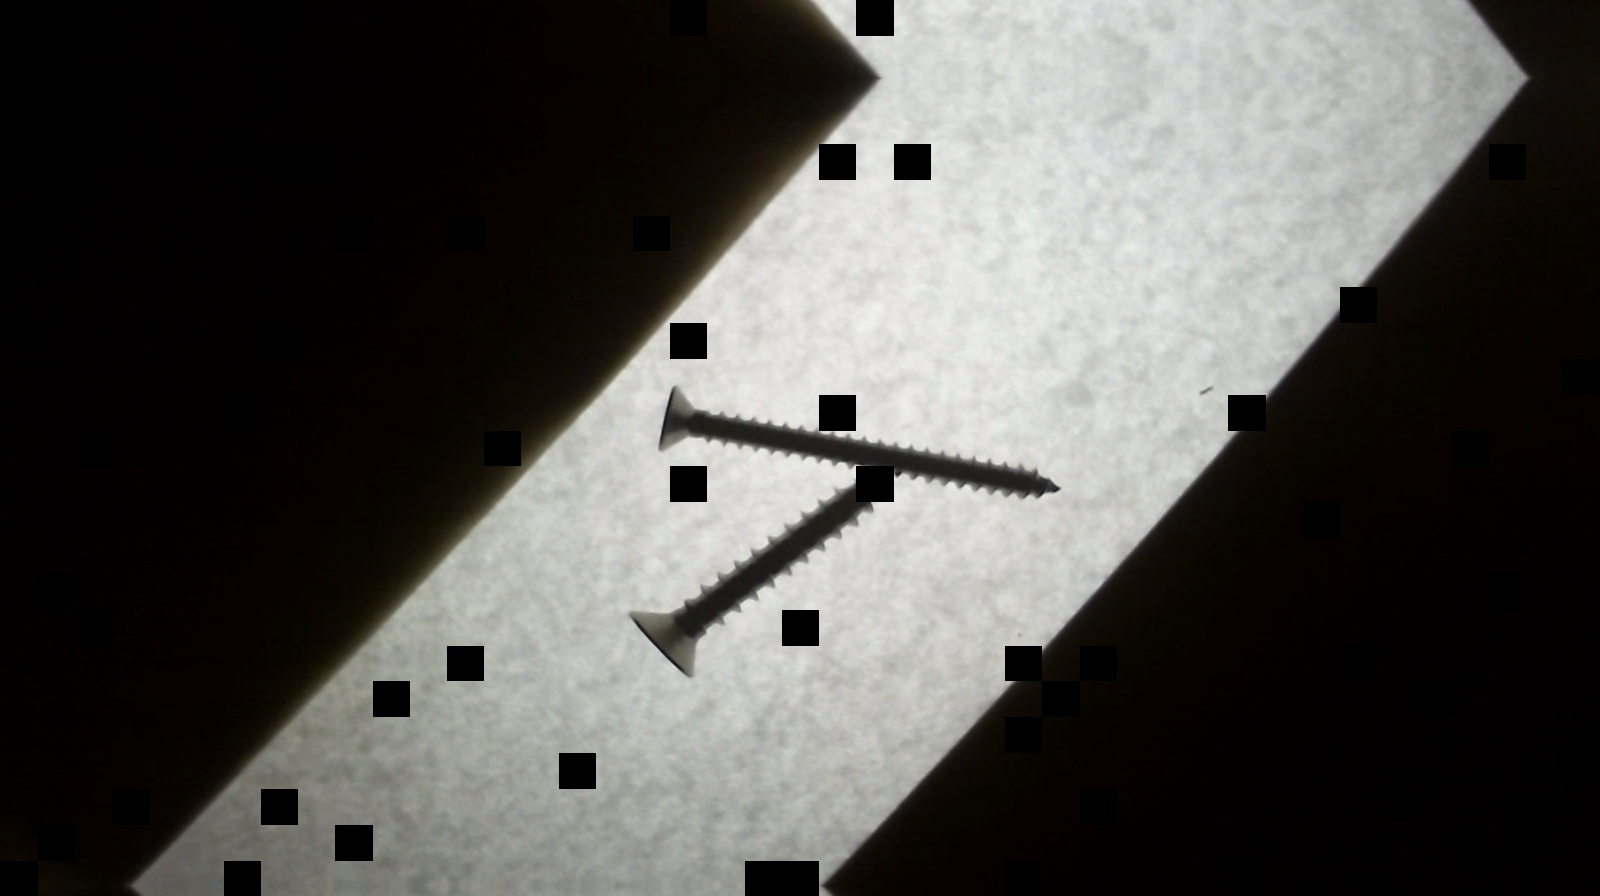S001: (629, 472, 888, 678)
S002: (652, 386, 1063, 501)
